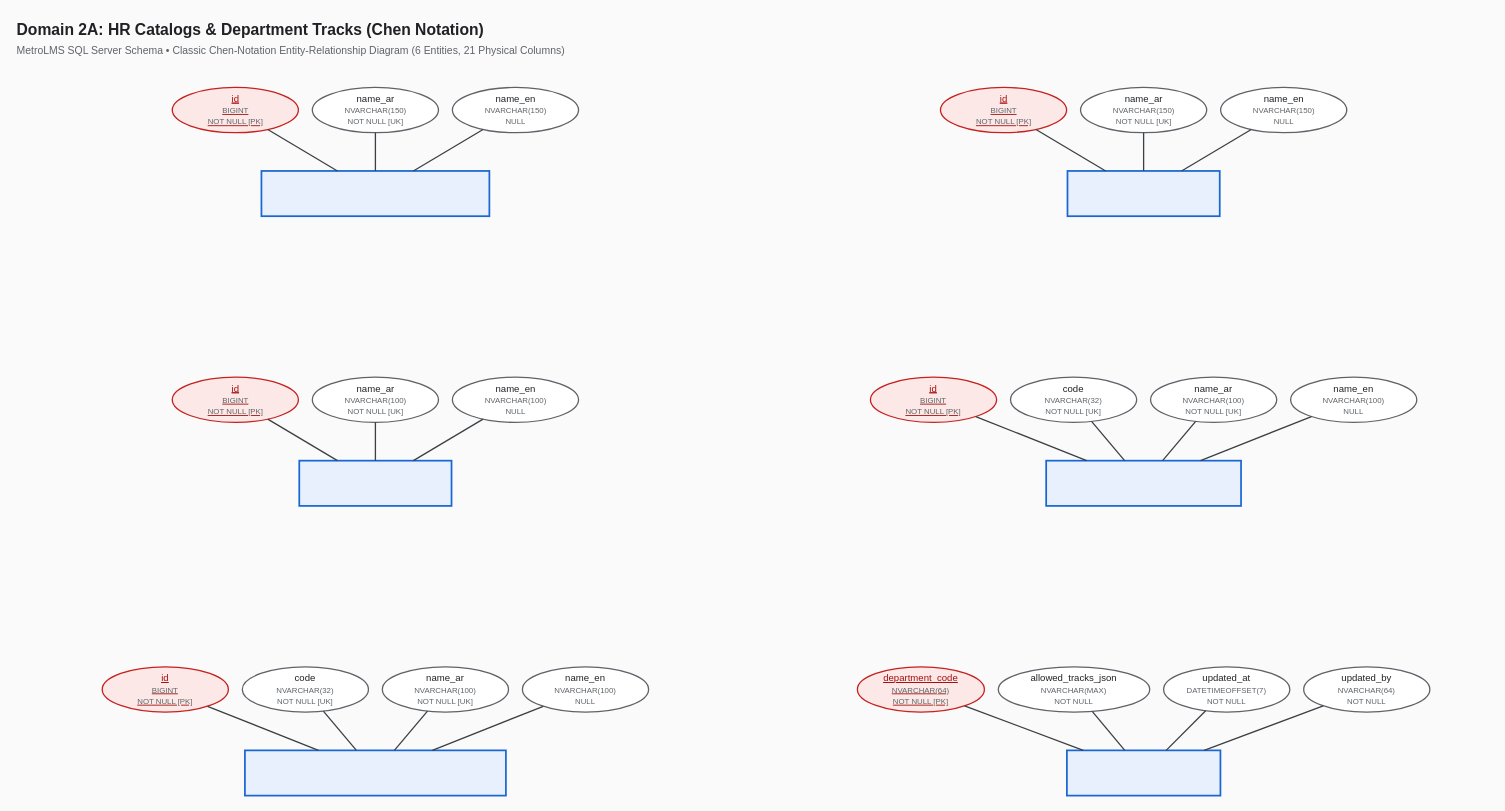
This 1505x811 diagram has some shape labels left out. Each missing label, with the centre of its shape:
"DepartmentTrack" goes at pixel 1143 772.
"JobTitle" goes at pixel 1143 193.
"MaritalStatusCatalog" goes at pixel 1143 482.
"MetroLine" goes at pixel 375 482.
"MilitaryServiceStatusCatalog" goes at pixel 375 772.
"OrganizationalDepartment" goes at pixel 375 193.
